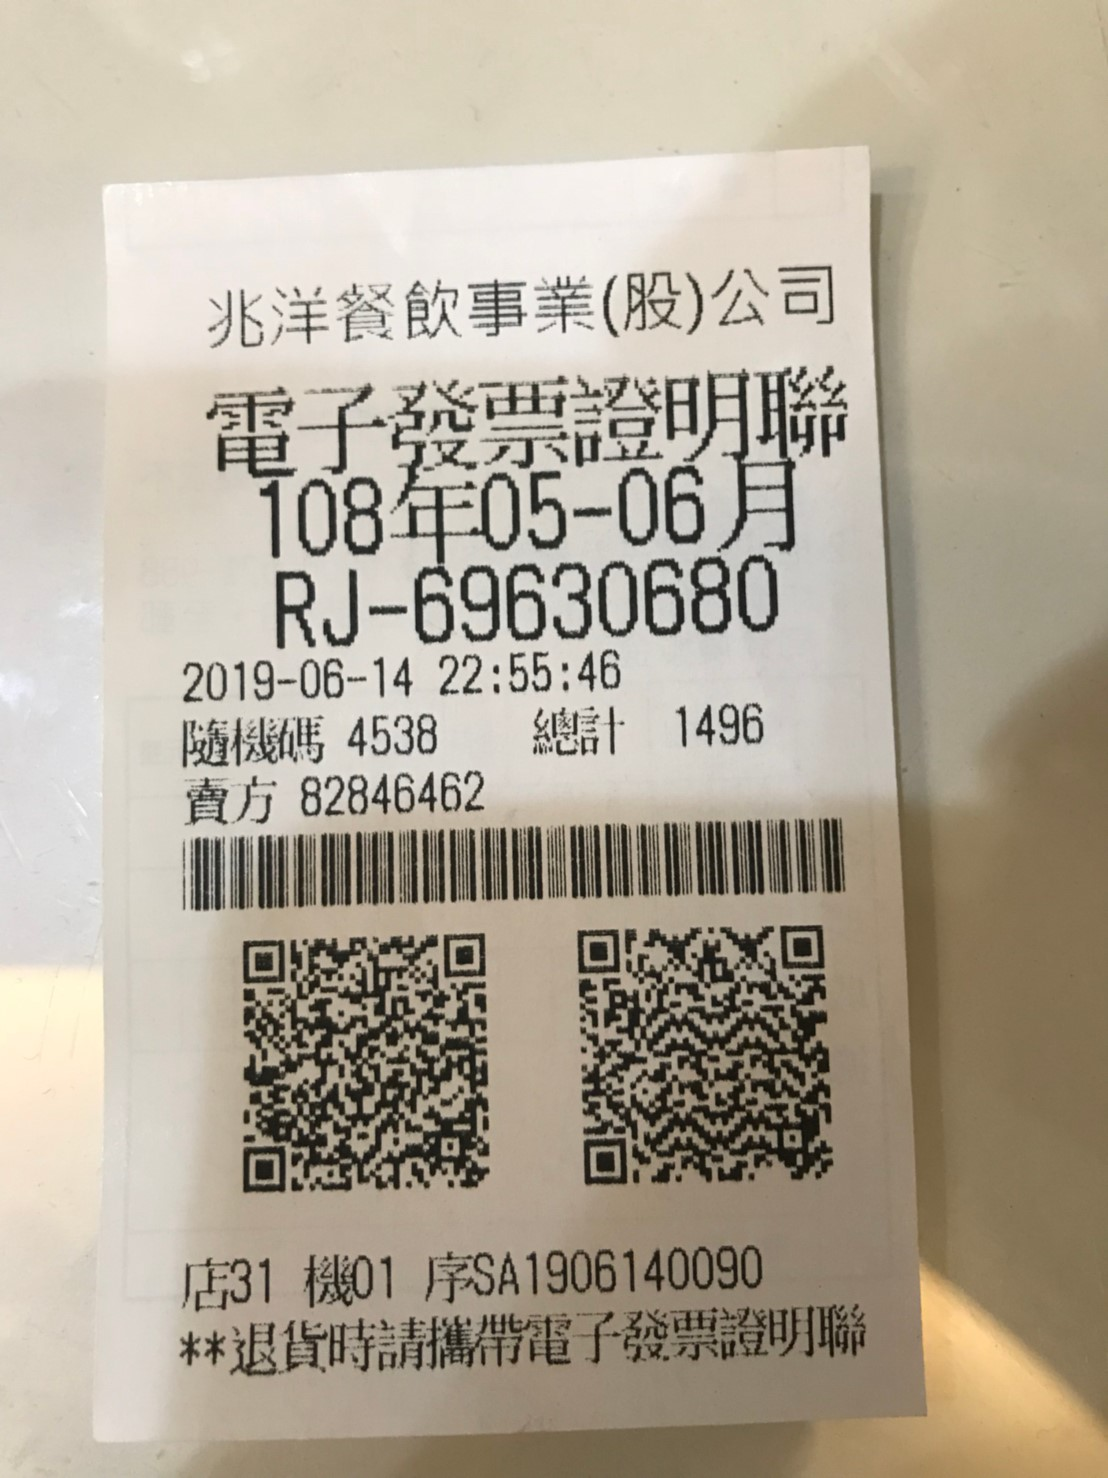Date_New: (254, 457, 795, 568)
Number_New: (411, 556, 783, 644)
